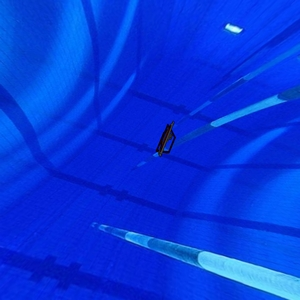submarine: (155, 117, 184, 164)
